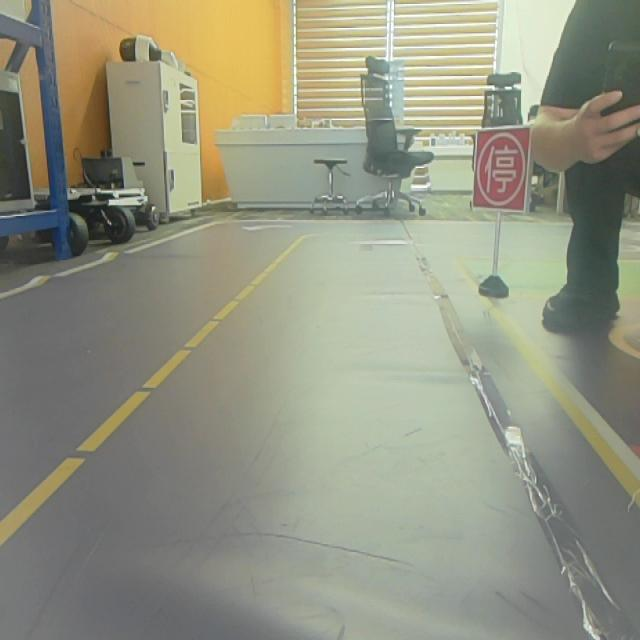left_lane: (0, 237, 303, 547)
right_lane: (459, 263, 640, 507)
